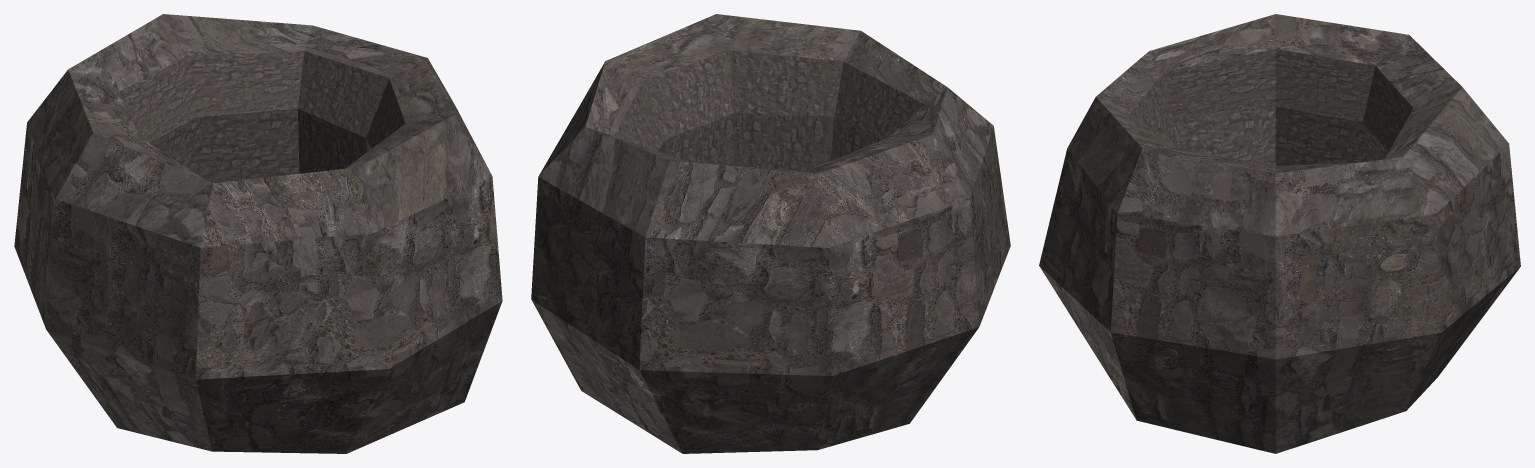
Rendered from stone.fbx.
3 views of the same model, side by side, from view 1: azimuth 30°, elevation 25°; view 2: azimuth 150°, elevation 25°; view 3: azimuth 270°, elevation 25° (orthographic). The views are drawn at different scales.
Visible parts, largest first — view 1: Cube holder; view 2: Cube holder; view 3: Cube holder.
Part boxes in pixels (x1,y1,x2,y2): Cube holder: (14, 14, 502, 453); Cube holder: (531, 14, 1010, 453); Cube holder: (1039, 14, 1520, 453).
Bounding box in the file's own units: 34.13 × 27.19 × 35.78.
